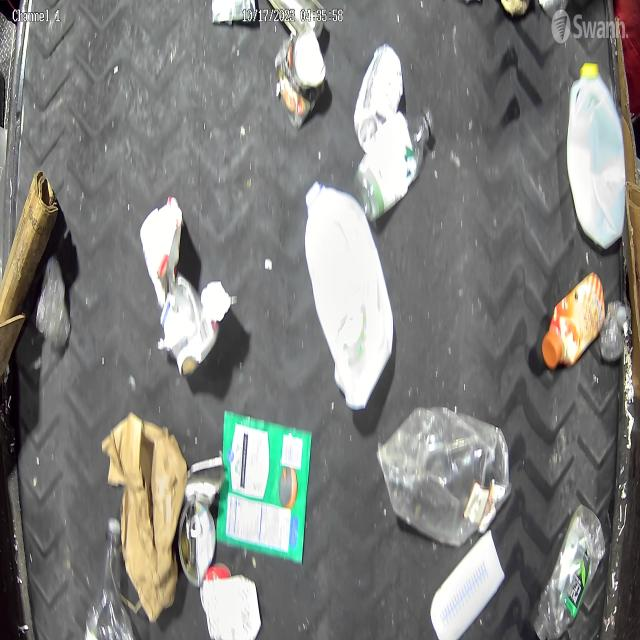can: (533, 502, 606, 640), (274, 28, 328, 130), (178, 496, 217, 589)
milk_jug: (302, 182, 393, 410), (568, 56, 625, 251)
